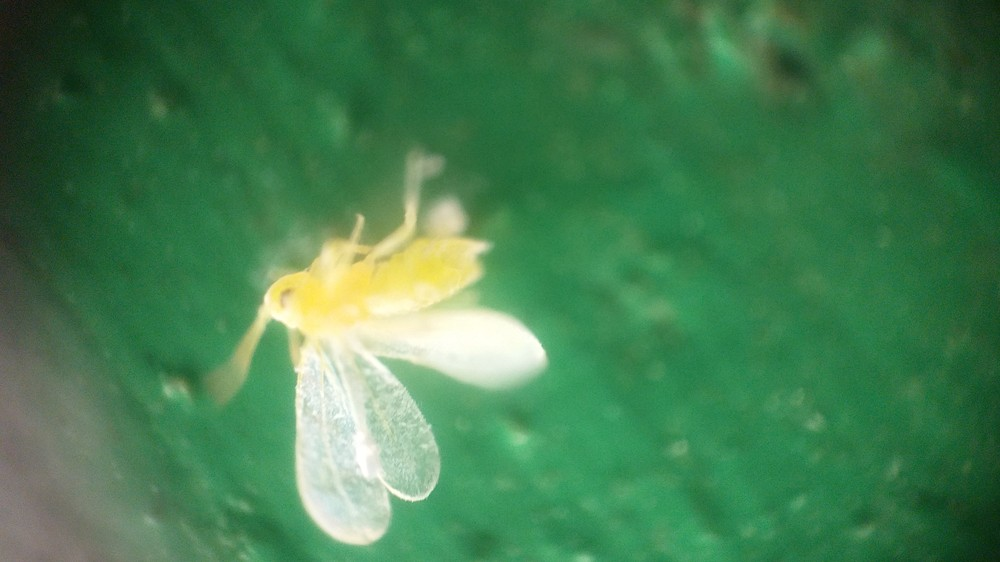Mosca Blanca: (217, 152, 560, 558)
